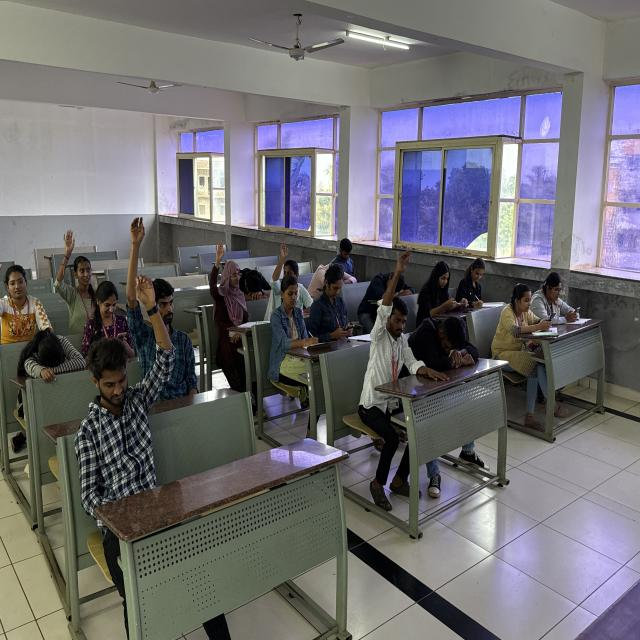Hand Rising: (85, 269, 170, 491), (118, 212, 190, 366), (366, 242, 418, 379), (205, 234, 250, 342), (54, 226, 95, 321), (270, 237, 308, 314)
Sleeping: (15, 324, 88, 398), (407, 306, 483, 377), (354, 266, 415, 308)
Using Phone: (74, 276, 138, 353), (311, 264, 366, 348), (489, 278, 557, 345), (530, 264, 584, 325), (416, 256, 470, 316)
Writing: (266, 272, 322, 377), (456, 254, 492, 308)
